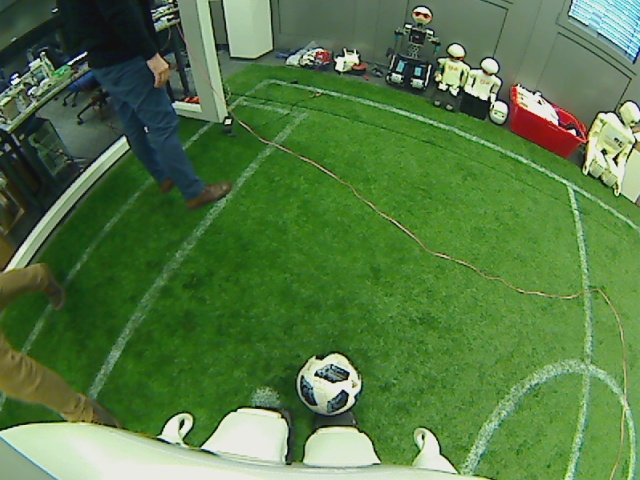ball: (294, 351, 362, 417)
